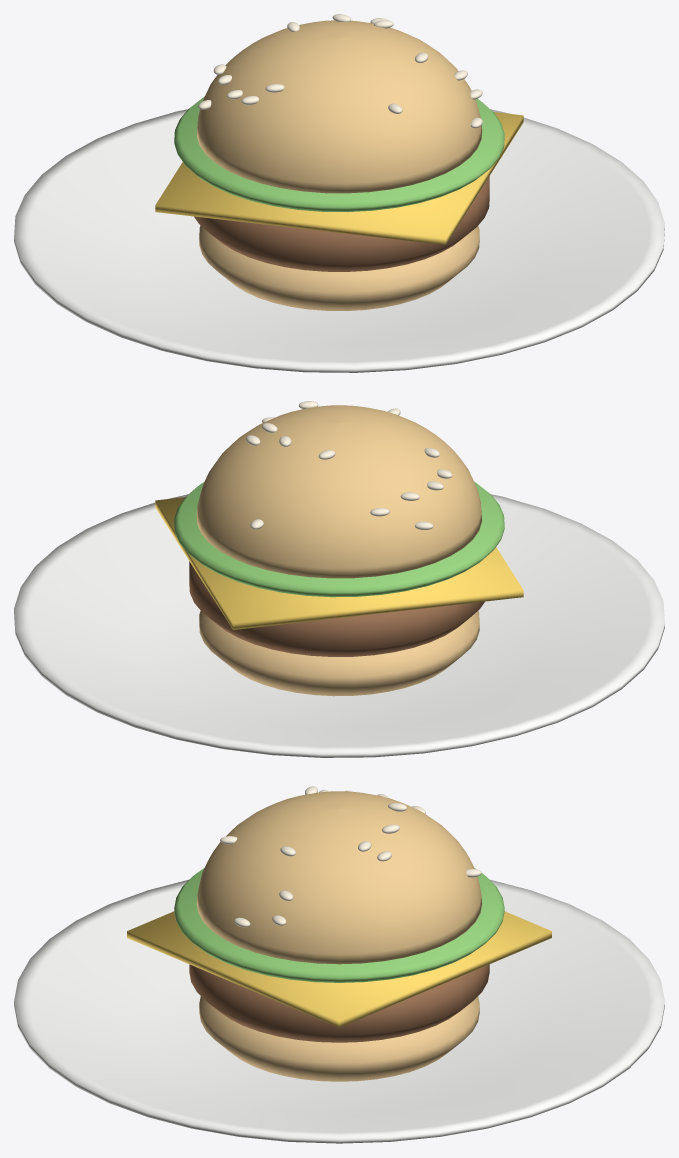
Rendered from burger.glb.
3 views of the same model, one above another, from view 1: azimuth 30°, elevation 25°; view 2: azimuth 150°, elevation 25°; view 3: azimuth 270°, elevation 25° (orthographic).
Parts seen in each view (by area): view 1: part0, part6, part1, part3, part2, part5, part7; view 2: part0, part6, part1, part3, part2, part5, part7; view 3: part0, part6, part3, part1, part2, part5, part7.
Boxes of the visible parts, x1,y1,x2,y2 form: part0: (14,109,664,372); part6: (196,20,482,193); part1: (199,225,479,310); part3: (155,112,523,244); part2: (194,176,489,271); part5: (174,96,504,212); part7: (198,14,482,128); part0: (14,494,664,757); part6: (196,405,482,578); part1: (199,610,479,696); part3: (155,497,523,629); part2: (189,561,484,656); part5: (174,481,504,597); part7: (246,401,452,529); part0: (14,879,664,1143); part6: (196,791,482,964); part3: (127,911,551,1027); part1: (199,996,479,1081); part2: (189,964,489,1042); part5: (174,868,504,982); part7: (220,786,481,927).
Bounding box in the file's own units: 0.26 × 0.105 × 0.26.
